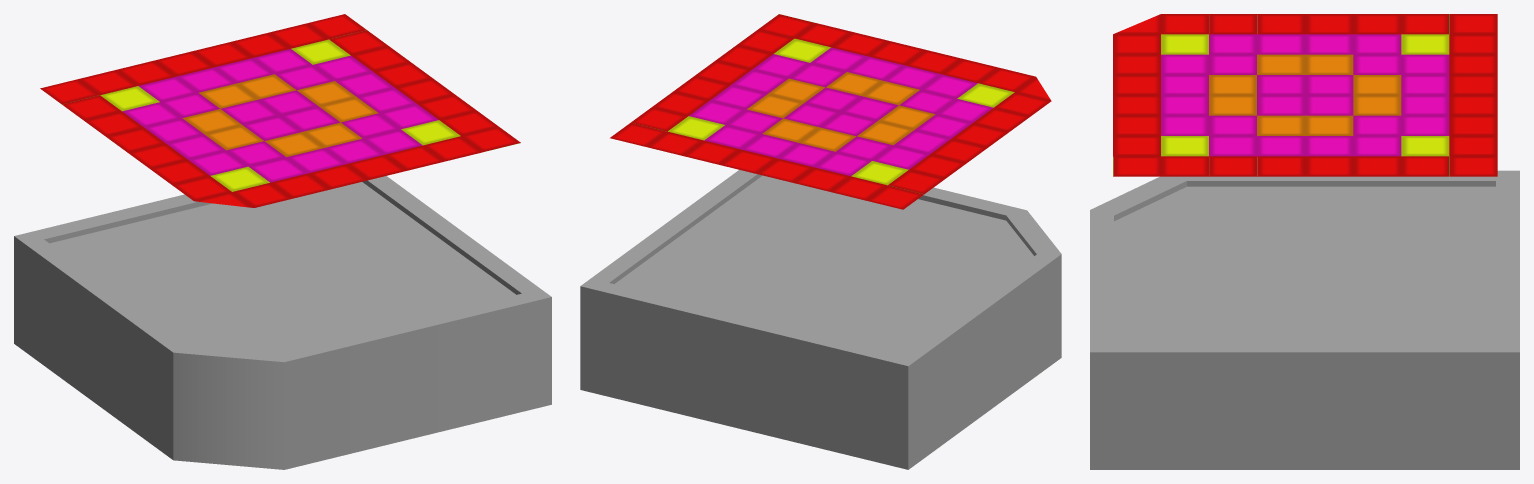
File: Dance floor.fbx
3 views of the same model, side by side, from view 1: azimuth 30°, elevation 25°; view 2: azimuth 150°, elevation 25°; view 3: azimuth 270°, elevation 25° (orthographic). The views are drawn at different scales.
Visible parts, largest first — view 1: pCube2, group11; view 2: pCube2, group11; view 3: pCube2, group11.
Boxes of the visible parts, left/top/right/bottom form: pCube2: left=14, top=176, right=551, bottom=469; group11: left=40, top=14, right=520, bottom=207; pCube2: left=580, top=170, right=1061, bottom=469; group11: left=610, top=14, right=1051, bottom=209; pCube2: left=1090, top=170, right=1519, bottom=469; group11: left=1113, top=14, right=1497, bottom=176.
Size of the model in its own units: 89.37 by 64.88 by 89.37.
